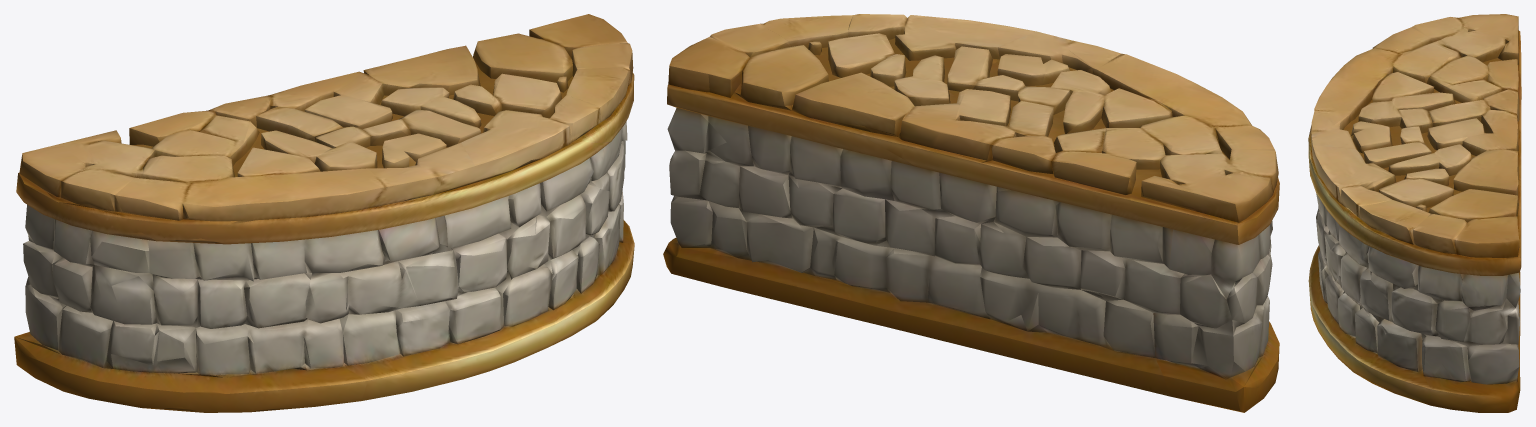
File: m2ArenaRimWall.glb
3 renders of one model, left to right at view 1: azimuth 30°, elevation 25°; view 2: azimuth 150°, elevation 25°; view 3: azimuth 270°, elevation 25°, orthographic. The views are drawn at different scales.
Visible parts, largest first — view 1: model; view 2: model; view 3: model.
Boxes of the visible parts, left/top/right/bottom form: model: left=14, top=14, right=634, bottom=412; model: left=663, top=14, right=1279, bottom=412; model: left=1308, top=14, right=1521, bottom=412.
Size of the model in its own units: 1.9 by 0.6505 by 0.7346.
1 material, 1 textured.
